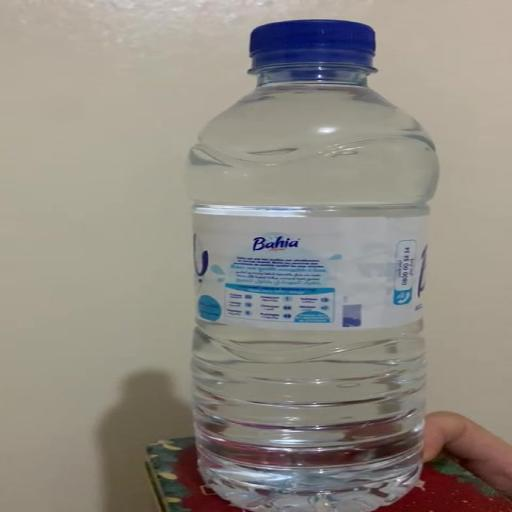bouteille conformite: (170, 12, 444, 512)
